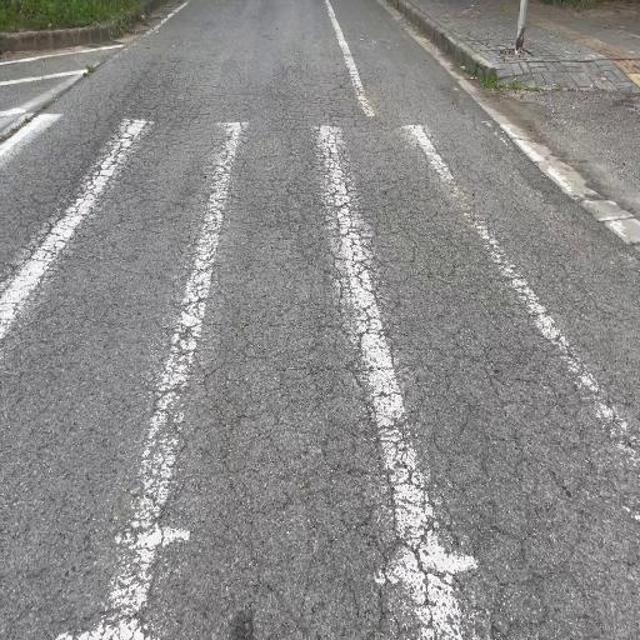Retak Buaya: (144, 189, 620, 640)
